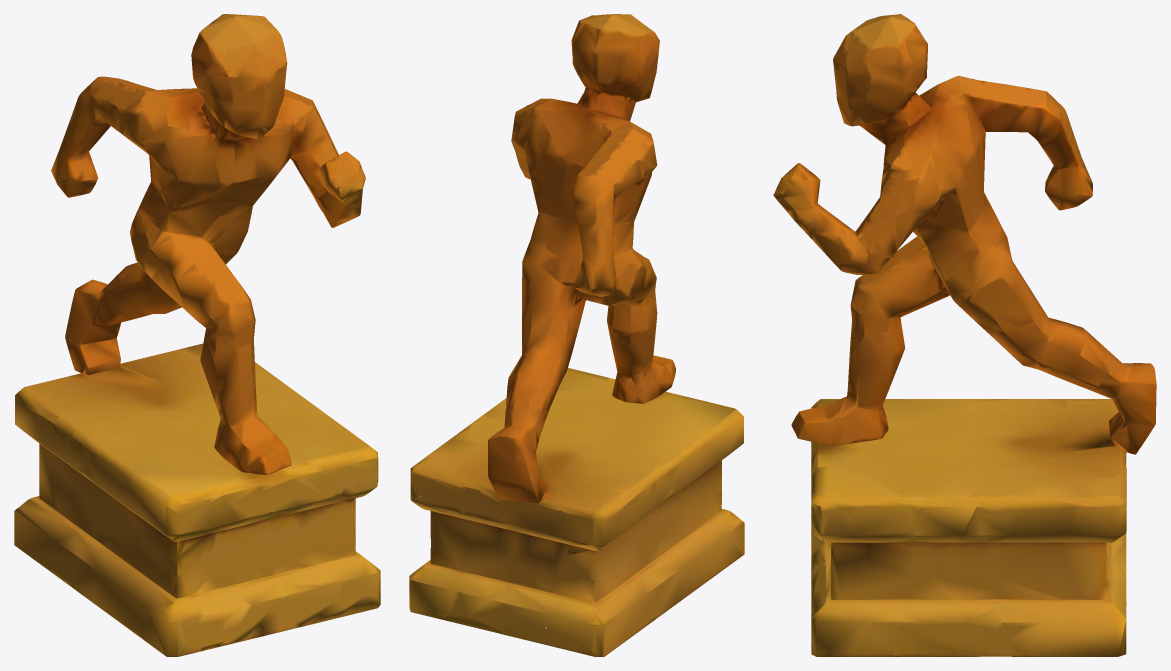
Rendered from biegacz.glb.
3 renders of one model, left to right at view 1: azimuth 30°, elevation 25°; view 2: azimuth 150°, elevation 25°; view 3: azimuth 270°, elevation 25°, orthographic. The views are drawn at different scales.
Visible parts, largest first — view 1: tripo_node_e82682c1-eeb2-4254-93f9-c27bd0133be3; view 2: tripo_node_e82682c1-eeb2-4254-93f9-c27bd0133be3; view 3: tripo_node_e82682c1-eeb2-4254-93f9-c27bd0133be3.
Boxes of the visible parts, x1,y1,x2,y2 form: tripo_node_e82682c1-eeb2-4254-93f9-c27bd0133be3: (14, 14, 380, 656); tripo_node_e82682c1-eeb2-4254-93f9-c27bd0133be3: (409, 14, 744, 656); tripo_node_e82682c1-eeb2-4254-93f9-c27bd0133be3: (773, 14, 1156, 656).
Bounding box in the file's own units: 0.3725 × 0.9793 × 0.5784.
Materials: 1 (1 with a texture image).
